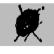not correct: (13, 3, 44, 44)
